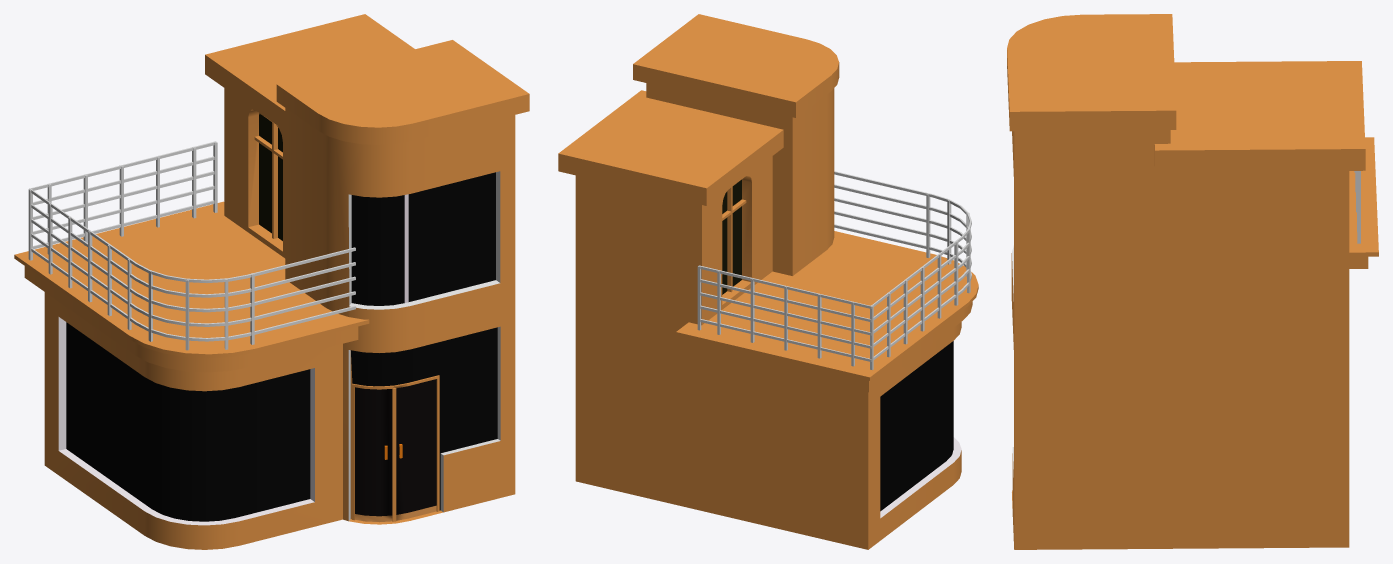
The picture shows the model from 3 angles, left to right: view 1: azimuth 30°, elevation 25°; view 2: azimuth 150°, elevation 25°; view 3: azimuth 270°, elevation 25°; orthographic projection. The views are drawn at different scales.
Parts seen in each view (by area): view 1: Object_304; view 2: Object_304; view 3: Object_304.
Part boxes in pixels (x1,y1,x2,y2): Object_304: (14, 14, 529, 549); Object_304: (558, 14, 978, 549); Object_304: (1007, 14, 1378, 549).
Bounding box in the file's own units: 0.9588 × 1.04 × 0.7868.
1 material, 1 textured.
